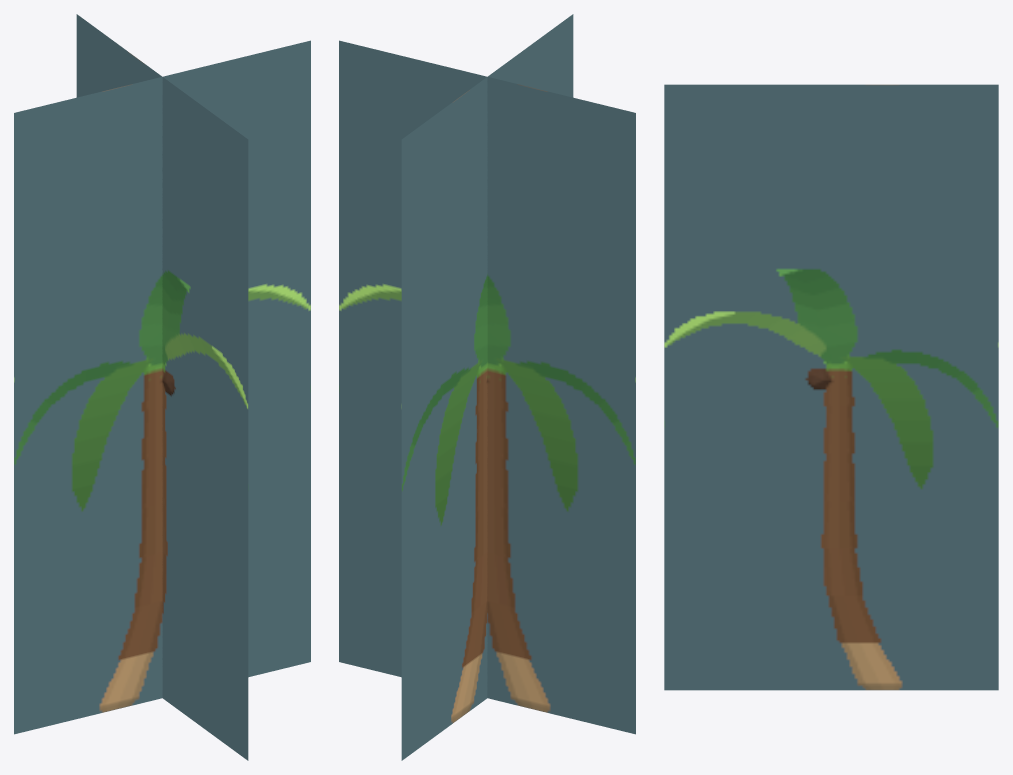
File: palm_3.glb
3 renders of one model, left to right at view 1: azimuth 30°, elevation 25°; view 2: azimuth 150°, elevation 25°; view 3: azimuth 270°, elevation 25°, orthographic. The views are drawn at different scales.
Visible parts, largest first — view 1: palm; view 2: palm; view 3: palm.
Boxes of the visible parts, <box> form: palm: <box>14,14,310,760</box>; palm: <box>339,14,635,760</box>; palm: <box>664,84,998,690</box>.
Bounding box in the file's own units: 4.29 × 8.58 × 4.29.
1 material, 1 textured.
